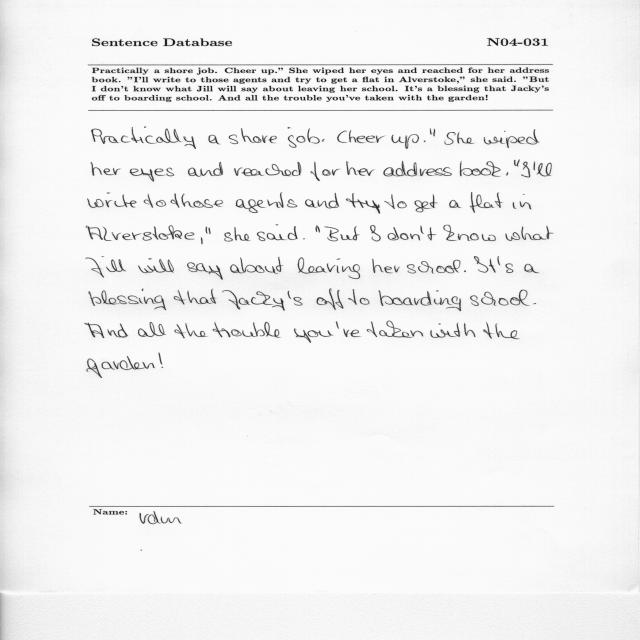word: (92, 127, 196, 149), (86, 225, 195, 241), (379, 290, 461, 311), (89, 289, 166, 310), (87, 356, 155, 378), (298, 257, 360, 279), (222, 290, 285, 311), (236, 192, 298, 213), (484, 129, 539, 148), (383, 161, 452, 176), (213, 322, 281, 337), (367, 321, 423, 338), (470, 290, 529, 306), (234, 162, 301, 176), (230, 257, 283, 274), (443, 225, 496, 241), (86, 257, 126, 278), (407, 260, 466, 274), (228, 128, 277, 144), (88, 192, 137, 208), (171, 193, 223, 208), (388, 226, 437, 241), (505, 226, 554, 241), (346, 193, 380, 214), (287, 127, 320, 148), (470, 192, 503, 213), (431, 323, 476, 338), (174, 289, 216, 305), (460, 161, 501, 177), (257, 225, 298, 241), (187, 262, 223, 280), (85, 323, 128, 338), (337, 130, 385, 143), (130, 168, 174, 182), (484, 322, 520, 339), (317, 288, 344, 310), (294, 328, 333, 343), (311, 162, 340, 181), (324, 227, 360, 242), (138, 258, 174, 273), (188, 162, 223, 177), (305, 193, 339, 208), (174, 324, 208, 339), (391, 134, 419, 149), (346, 161, 374, 176), (138, 322, 166, 337), (415, 195, 438, 213), (91, 162, 120, 176), (372, 259, 400, 273), (444, 132, 474, 145), (225, 227, 251, 242), (336, 322, 361, 337), (384, 194, 407, 209), (348, 289, 369, 305), (144, 194, 166, 208), (497, 256, 514, 273), (533, 162, 552, 177), (513, 194, 532, 209), (474, 256, 488, 273), (288, 291, 303, 306), (370, 225, 381, 241), (522, 162, 531, 178), (524, 264, 539, 273), (208, 135, 221, 144), (489, 259, 496, 273), (450, 200, 462, 208), (158, 353, 163, 368), (430, 129, 435, 137), (206, 227, 211, 235), (514, 160, 520, 166), (315, 226, 320, 233), (201, 237, 203, 244), (322, 139, 325, 142), (506, 172, 508, 176), (424, 140, 426, 142), (303, 238, 305, 240), (533, 303, 536, 304)
